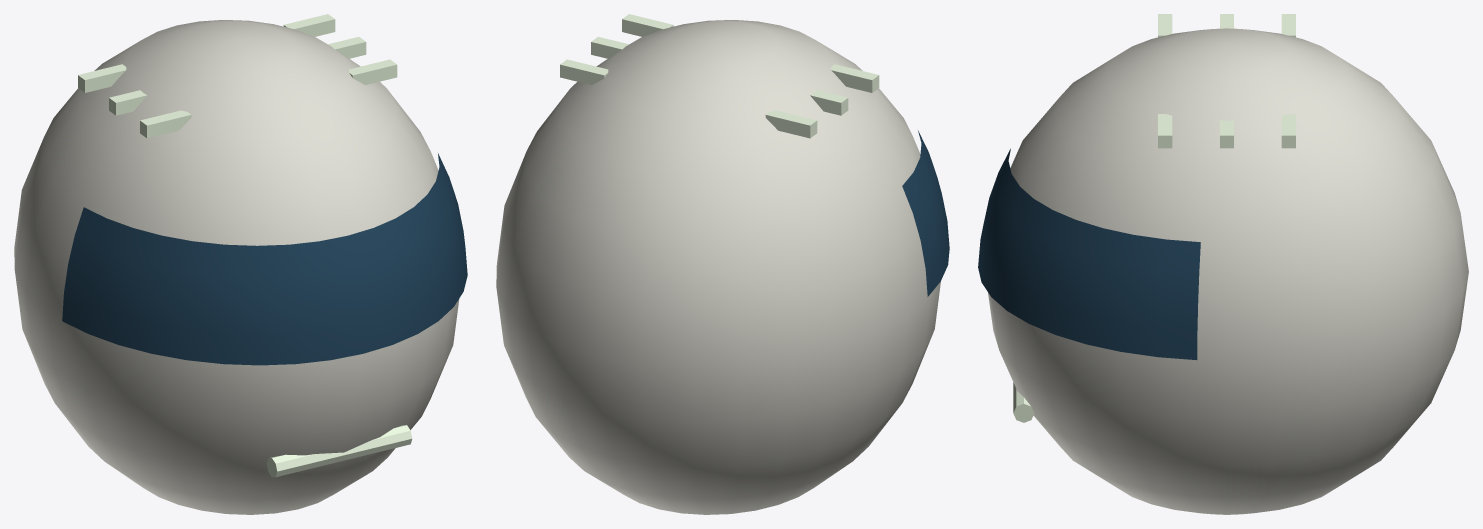
The model's file is vent.glb.
3 views of the same model, side by side, from view 1: azimuth 30°, elevation 25°; view 2: azimuth 150°, elevation 25°; view 3: azimuth 270°, elevation 25° (orthographic).
Parts seen in each view (by area): view 1: Helmet; view 2: Helmet; view 3: Helmet.
Boxes of the visible parts, bbox=[...] form: Helmet: bbox=[14, 14, 467, 514]; Helmet: bbox=[496, 14, 949, 514]; Helmet: bbox=[978, 14, 1468, 514].
Size of the model in its own units: 0.25 by 0.284 by 0.278.
